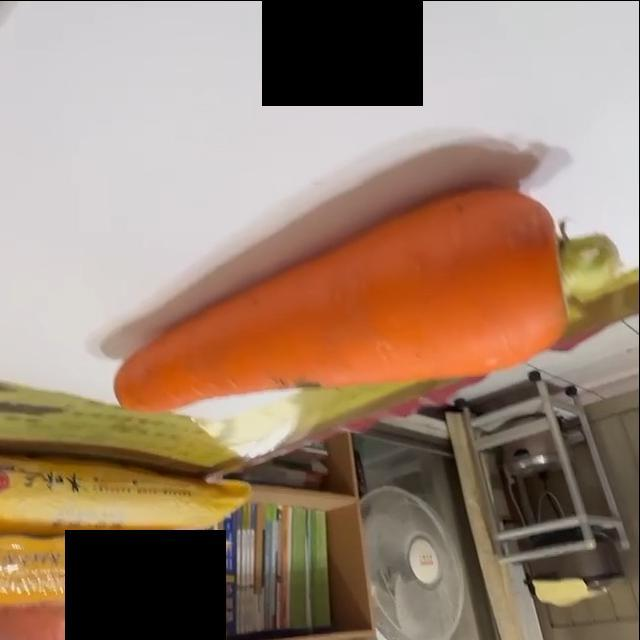carrot: (114, 180, 621, 417)
